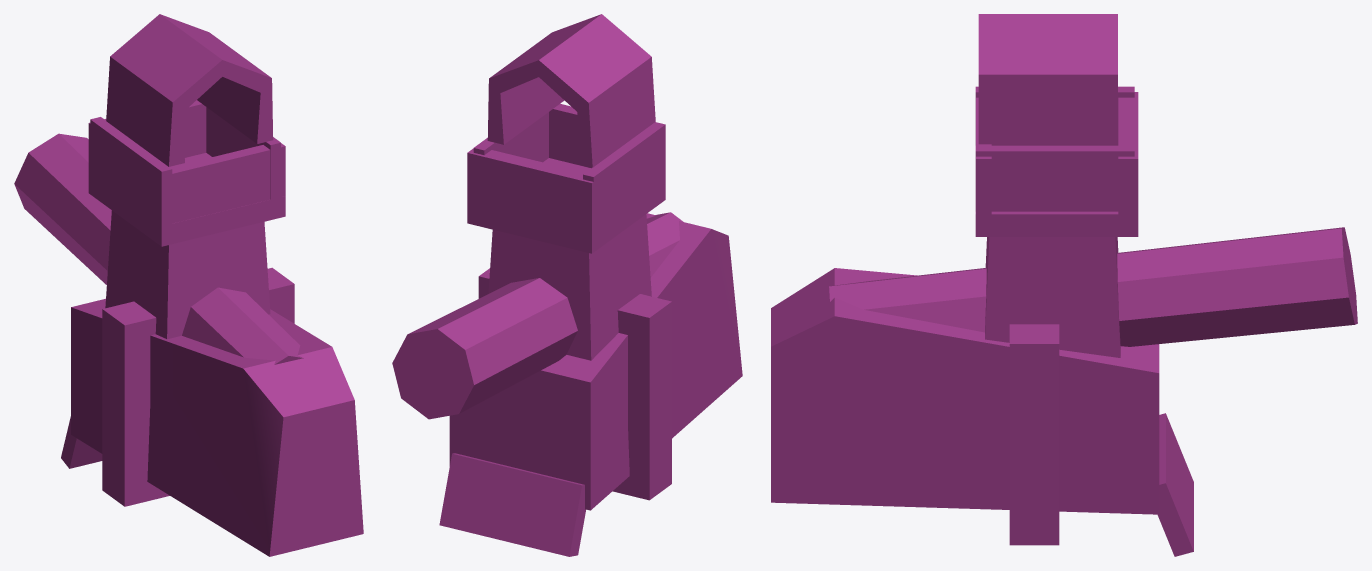
Rendered from SM_Veh_Cannon_01_Collision.fbx.
3 renders of one model, left to right at view 1: azimuth 30°, elevation 25°; view 2: azimuth 150°, elevation 25°; view 3: azimuth 270°, elevation 25°, orthographic. The views are drawn at different scales.
Parts seen in each view (by area): view 1: SM_Veh_Cannon_01_Collision; view 2: SM_Veh_Cannon_01_Collision; view 3: SM_Veh_Cannon_01_Collision.
Part boxes in pixels (x1,y1,x2,y2): SM_Veh_Cannon_01_Collision: (14,14,363,556); SM_Veh_Cannon_01_Collision: (392,14,742,556); SM_Veh_Cannon_01_Collision: (771,14,1357,556).
Size of the model in its own units: 323 by 833 by 872.
